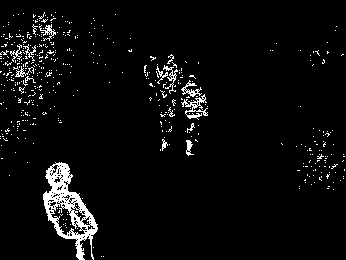person: (40, 155, 104, 260), (179, 74, 209, 157)
